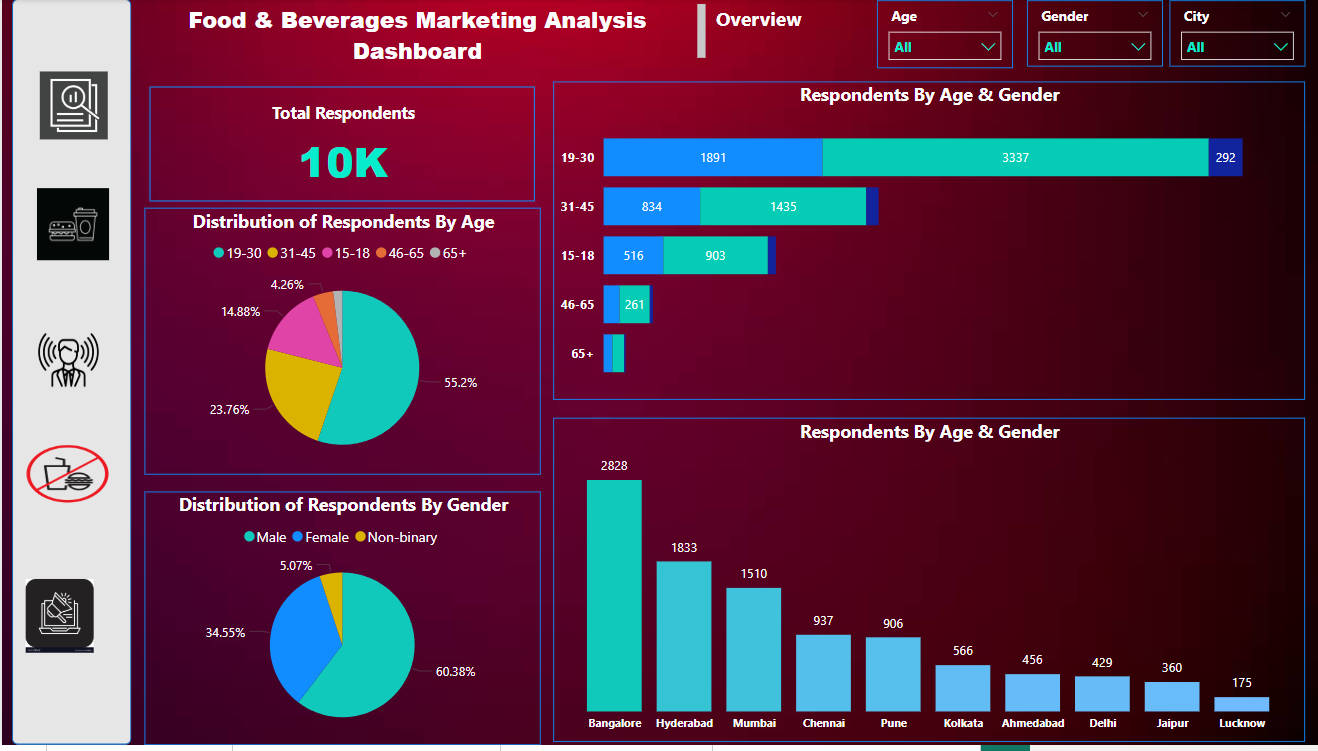

The page's visual inventory and layout, read from the dashboard file:
{"tool":"powerbi","page":{"name":"Overview","canvas":[1280,720],"ordinal":0},"visuals":[{"type":"shape","box":[10,0,115.2,719.6],"z":0},{"type":"image","box":[29.9,310,68.3,76.8],"z":1000},{"type":"image","box":[15.6,423.8,95.3,69.7],"z":2000},{"type":"image","box":[15.6,65.4,106.7,75.4],"z":3000},{"type":"image","box":[12.8,554.7,85.3,81.1],"z":4000},{"type":"image","box":[28.4,176.4,79.6,82.5],"z":5000},{"type":"textbox","box":[125.2,0,558.9,65.4],"z":6000},{"type":"slicer","fields":{"Values":["dim_repondents.Age"]},"box":[844.8,1.4,130.8,65.4],"z":7000},{"type":"slicer","fields":{"Values":["dim_repondents.Gender"]},"box":[989.9,1.4,130.8,64],"z":8000},{"type":"slicer","fields":{"Values":["dim_cities.City"]},"box":[1126.4,1.4,130.8,64],"z":9000},{"type":"textbox","box":[684.1,1.4,116.6,52.6],"z":10000},{"type":"cardVisual","fields":{"Data":["dim_repondents.Total Respondents"]},"box":[137.5,79.6,382.4,121.9],"z":11000},{"type":"barChart","title":"Respondents By Age & Gender","fields":{"Category":["dim_repondents.Age"],"Y":["dim_repondents.Total Respondents"],"Series":["dim_repondents.Gender"]},"box":[531.9,79.6,725.3,307.2],"z":12000},{"type":"pieChart","title":"Distribution of Respondents By Gender","fields":{"Y":["dim_repondents.Total Respondents"],"Category":["dim_repondents.Gender"]},"box":[138,475,382.6,244.6],"z":13000},{"type":"pieChart","title":"Distribution of Respondents By Age","fields":{"Y":["dim_repondents.Total Respondents"],"Category":["dim_repondents.Age"]},"box":[138,202,382.6,257.4],"z":14000},{"type":"clusteredColumnChart","title":"Respondents By Age & Gender","fields":{"Y":["dim_repondents.Total Respondents"],"Category":["dim_cities.City"]},"box":[531.9,403.9,725.3,312.9],"z":15000}]}

Visuals, with their boxes in screenshot pixels (x1, y1, x2, y2), scaled from the page's 1280x720 canvas onto the 1318x751 screenshot:
shape: (10, 0, 129, 750)
image: (31, 323, 101, 403)
image: (16, 442, 114, 515)
image: (16, 68, 126, 147)
image: (13, 579, 101, 663)
image: (29, 184, 111, 270)
textbox: (129, 0, 704, 68)
slicer - dim_repondents.Age: (870, 1, 1005, 70)
slicer - dim_repondents.Gender: (1019, 1, 1154, 68)
slicer - dim_cities.City: (1160, 1, 1295, 68)
textbox: (704, 1, 824, 56)
cardVisual - dim_repondents.Total Respondents: (142, 83, 535, 210)
"Respondents By Age & Gender" barChart: (548, 83, 1295, 403)
"Distribution of Respondents By Gender" pieChart: (142, 495, 536, 750)
"Distribution of Respondents By Age" pieChart: (142, 211, 536, 479)
"Respondents By Age & Gender" clusteredColumnChart: (548, 421, 1295, 748)
